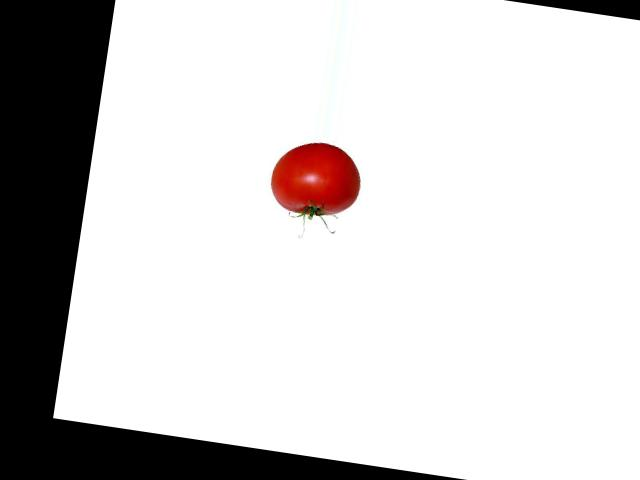tomato: (267, 136, 364, 221)
